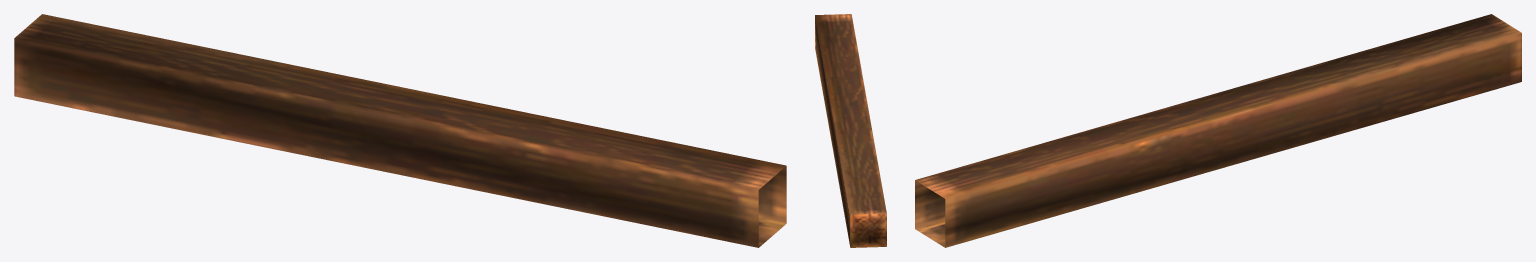
Rendered from SWORDLIGHT20_JAILBRACE04.fbx.
The picture shows the model from 3 angles, left to right: view 1: azimuth 30°, elevation 25°; view 2: azimuth 150°, elevation 25°; view 3: azimuth 270°, elevation 25°; orthographic projection. The views are drawn at different scales.
Parts seen in each view (by area): view 1: SWORDLIGHT20_JAILBRACE04; view 2: SWORDLIGHT20_JAILBRACE04; view 3: SWORDLIGHT20_JAILBRACE04.
Part boxes in pixels (<box>): SWORDLIGHT20_JAILBRACE04: <box>14,14,786,247</box>; SWORDLIGHT20_JAILBRACE04: <box>815,14,886,247</box>; SWORDLIGHT20_JAILBRACE04: <box>915,14,1521,247</box>.
Size of the model in its own units: 32385 by 4000 by 44906.
Materials: 1 (1 with a texture image).
